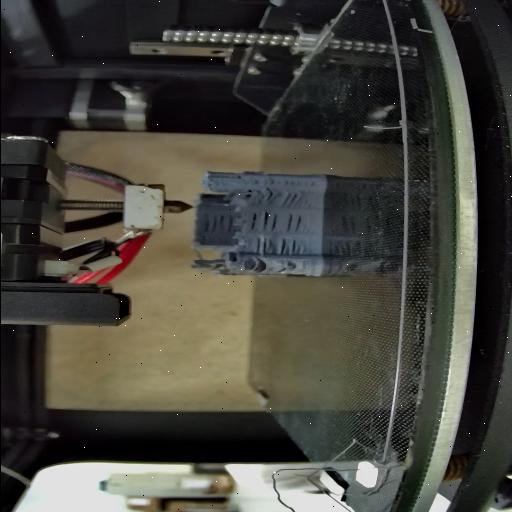cracks: (200, 214, 234, 234), (248, 212, 278, 234), (284, 210, 306, 234), (278, 236, 302, 256), (252, 188, 278, 206), (252, 236, 274, 256), (256, 180, 318, 186), (280, 191, 302, 207), (249, 266, 263, 274), (227, 174, 243, 180), (276, 267, 286, 273)
